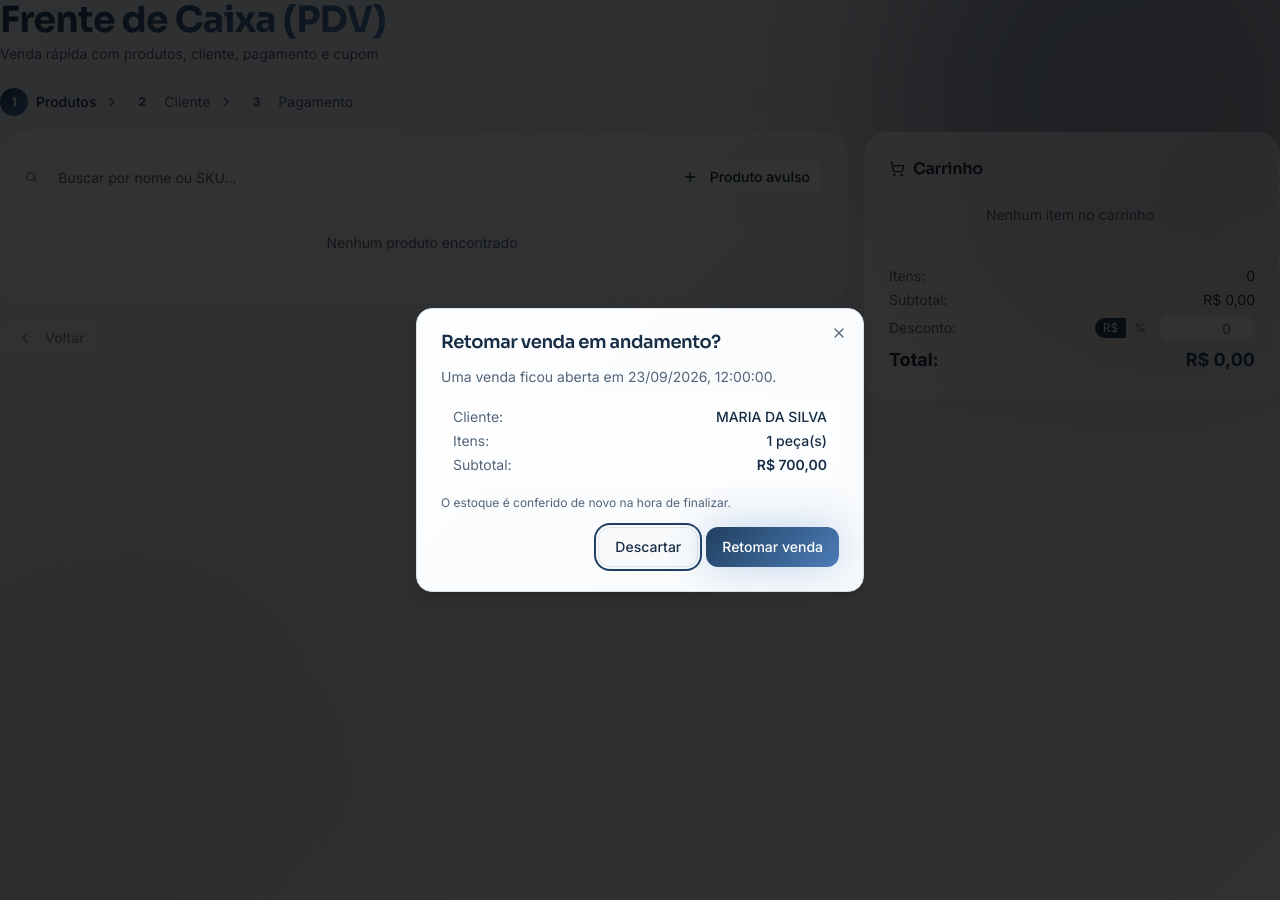
Test: PDV — venda na carteira até o banco › 7x a partir de 30/08: parcelas iguais que somam o total e fevereiro em 28/02
Click the button "Retomar venda".
click(773, 547)  # box [706,527,839,567]
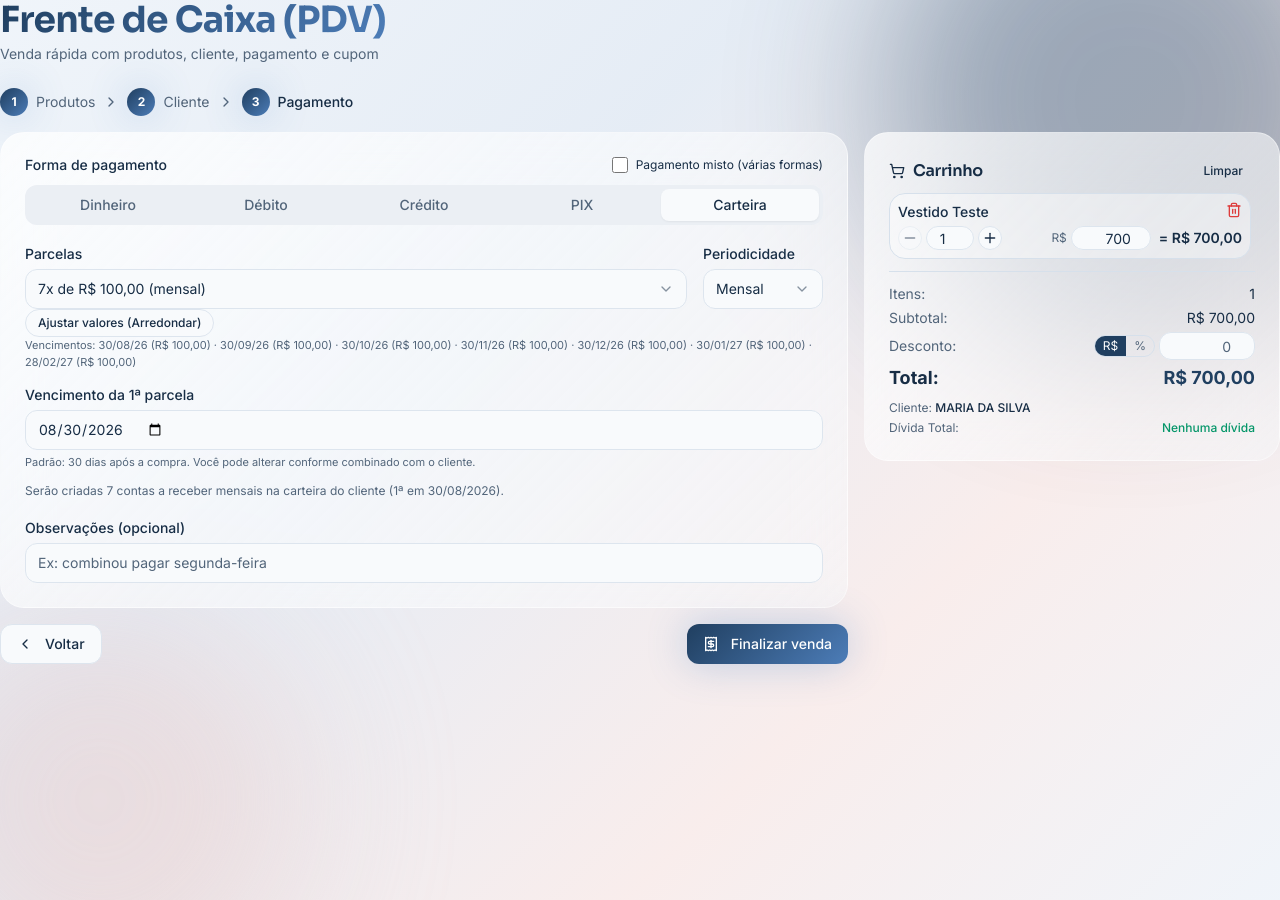
Click the button "Finalizar venda".
click(767, 644)  # box [687,624,848,664]
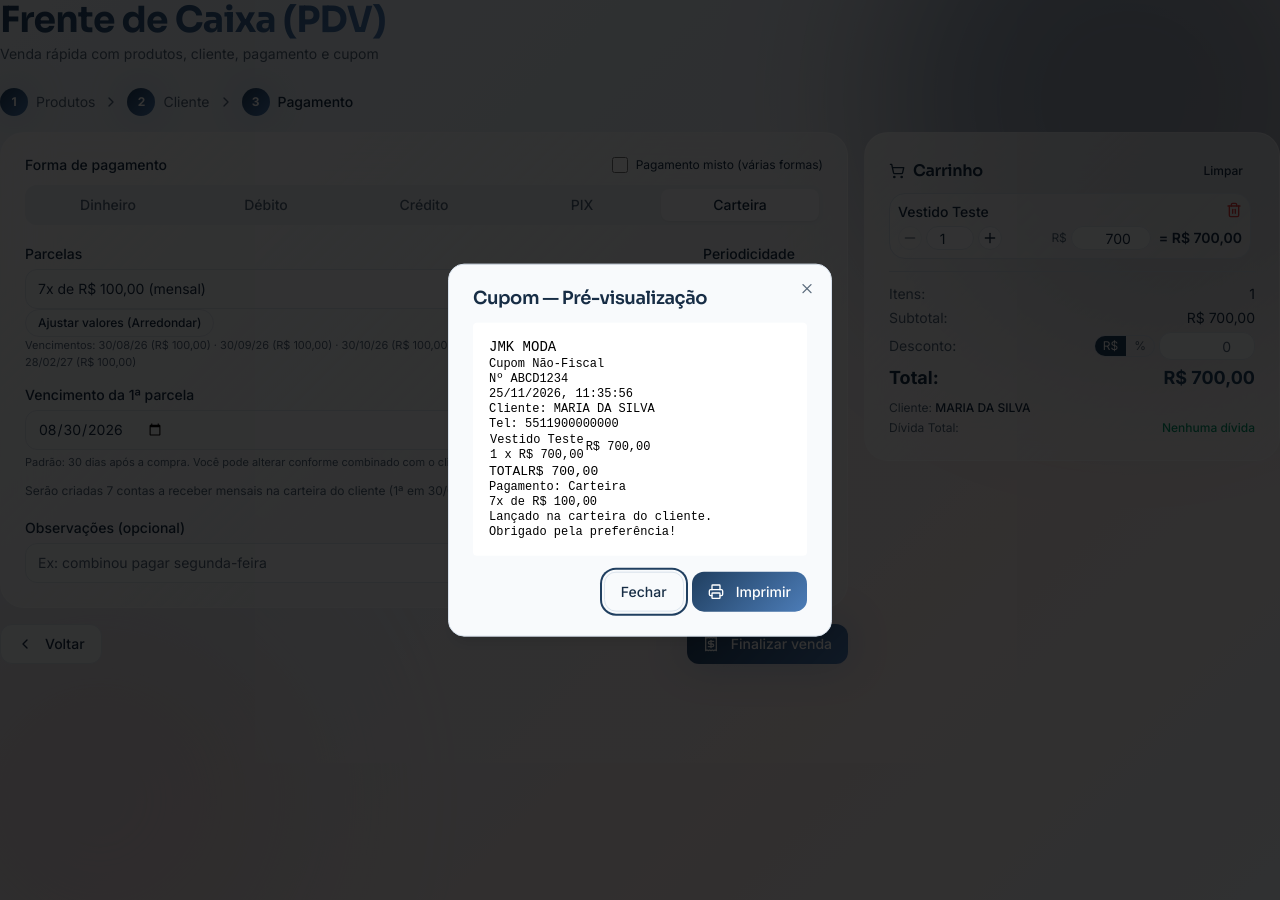
Result: the text "Nº ABCD1234" is shown at [489,371,568,385]
